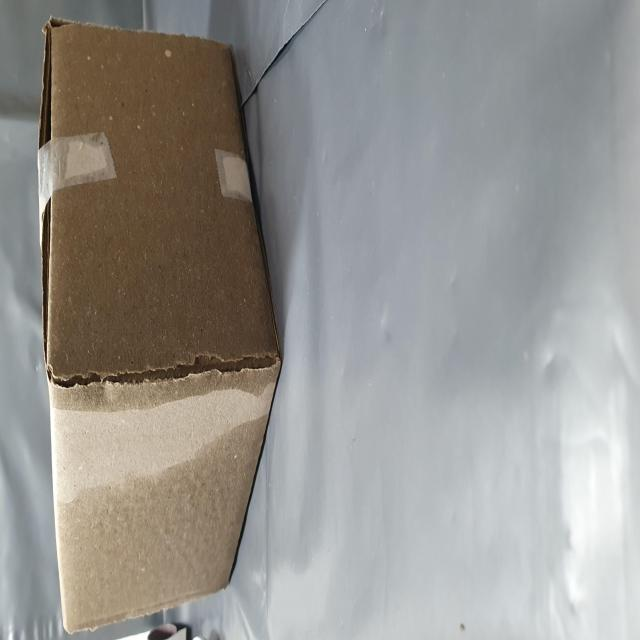wet: (7, 69, 347, 494)
